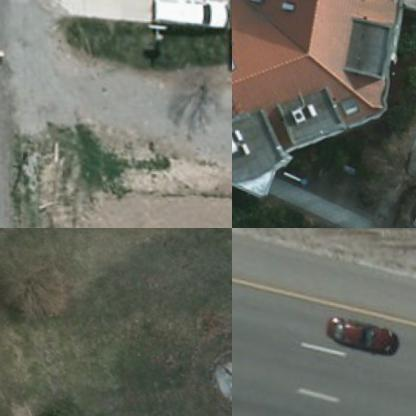car: (320, 318, 402, 366), (145, 0, 229, 35), (397, 199, 415, 227)
